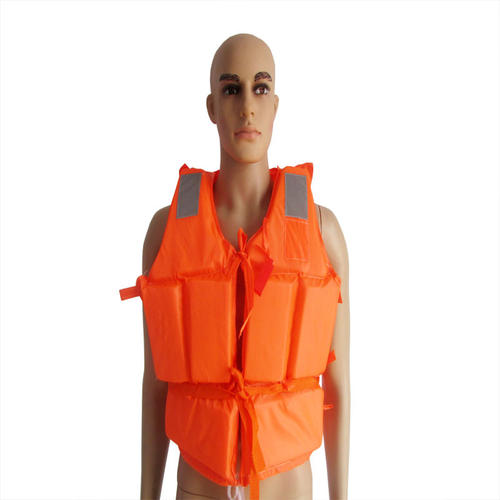reflective_clothes: (139, 123, 356, 480)
